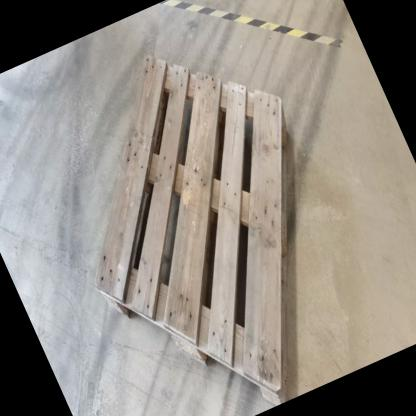BoxFace: (86, 48, 290, 406)
